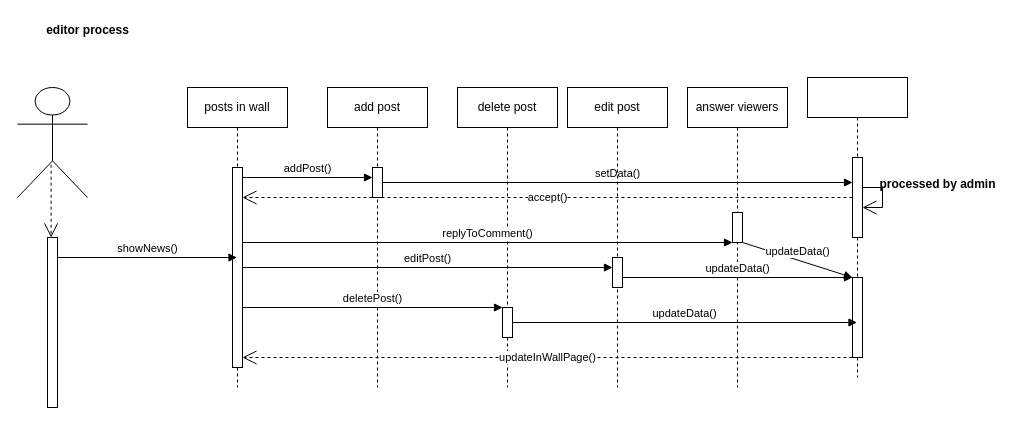
Some shapes in this 1013 by 425 pixel diagram are drawn without their labels. The shapes that lost their labels are listed below. From the top down, each one's centre as x and y in pixels, then its label:
At point (52, 142): "editor".
At point (857, 227): "DataBase".
